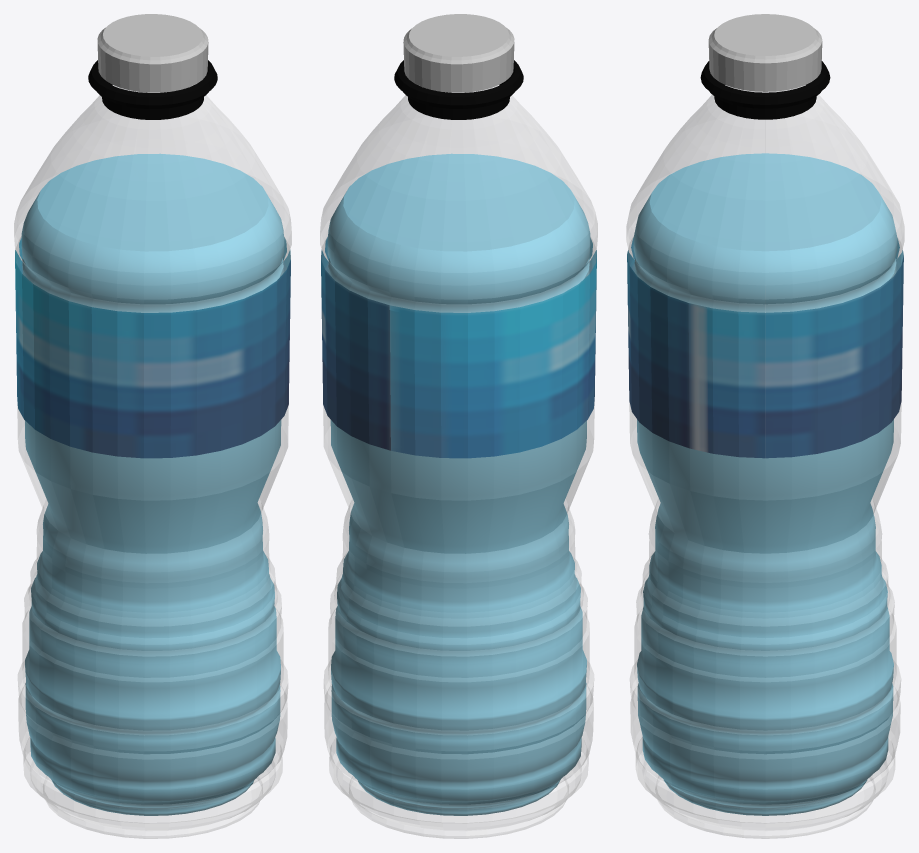
File: wollyWater.glb
3 views of the same model, side by side, from view 1: azimuth 30°, elevation 25°; view 2: azimuth 150°, elevation 25°; view 3: azimuth 270°, elevation 25° (orthographic).
Parts seen in each view (by area): view 1: bottle, LIQUID, LABEL, CAP.001, CAP; view 2: bottle, LIQUID, LABEL, CAP.001, CAP; view 3: bottle, LIQUID, LABEL, CAP.001, CAP.
Boxes of the visible parts, x1,y1,x2,y2 form: bottle: (14,85,291,838); LIQUID: (21,153,284,815); LABEL: (15,237,290,458); CAP.001: (97,14,208,92); CAP: (88,60,217,119); bottle: (320,85,597,838); LIQUID: (327,153,590,815); LABEL: (321,237,596,458); CAP.001: (403,14,514,92); CAP: (394,60,523,119); bottle: (626,88,904,838); LIQUID: (633,153,897,815); LABEL: (627,238,903,458); CAP.001: (708,14,822,91); CAP: (700,61,830,119).
Size of the model in its own units: 0.7297 by 2.2 by 0.7297.
Materials: 5 (1 with a texture image).
